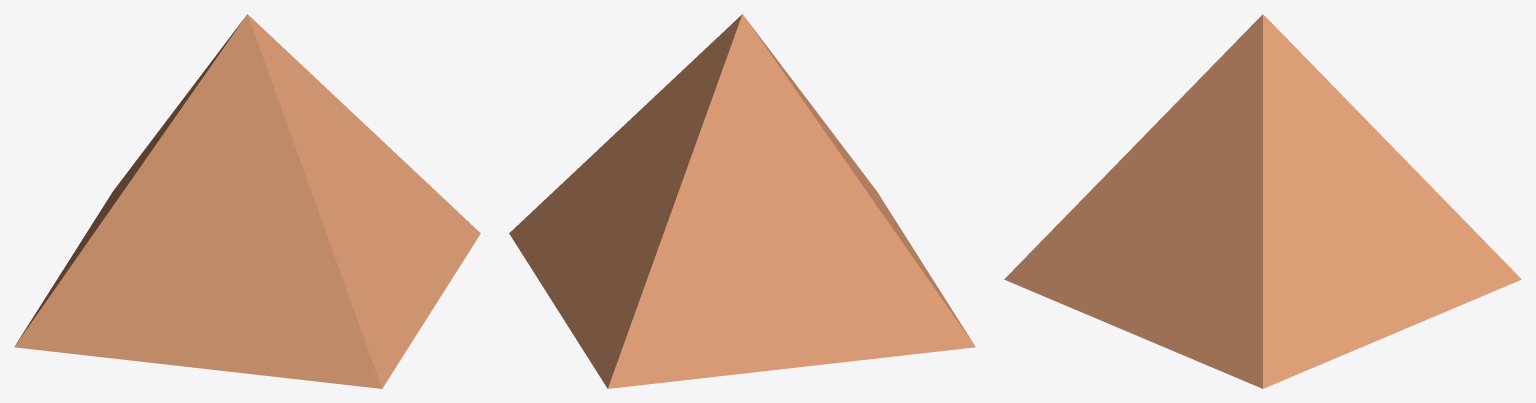
3 renders of one model, left to right at view 1: azimuth 30°, elevation 25°; view 2: azimuth 150°, elevation 25°; view 3: azimuth 270°, elevation 25°, orthographic. The views are drawn at different scales.
Visible parts, largest first — view 1: Pyramid; view 2: Pyramid; view 3: Pyramid.
Boxes of the visible parts, x1,y1,x2,y2 form: Pyramid: (14, 14, 480, 388); Pyramid: (509, 14, 975, 388); Pyramid: (1004, 14, 1521, 388).
Bounding box in the file's own units: 1.41 × 0.8 × 1.41.
